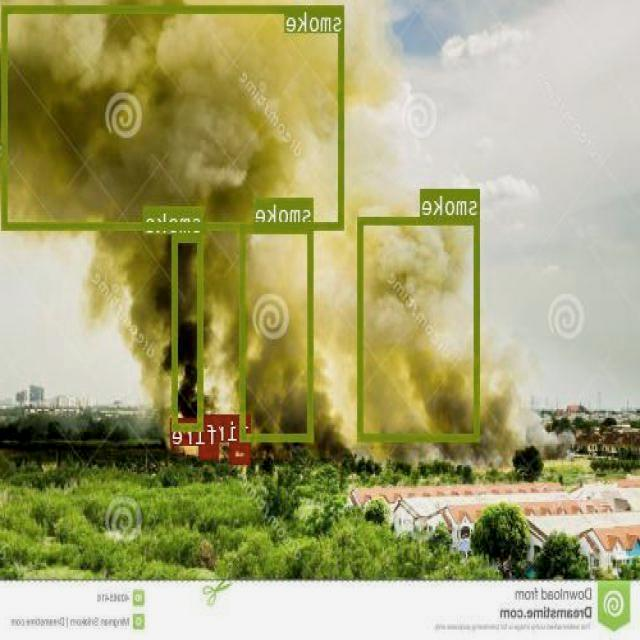fire: (232, 442, 252, 462), (200, 445, 220, 458)
smoke: (3, 5, 346, 229), (358, 216, 482, 439), (242, 225, 314, 440), (173, 233, 204, 430)
